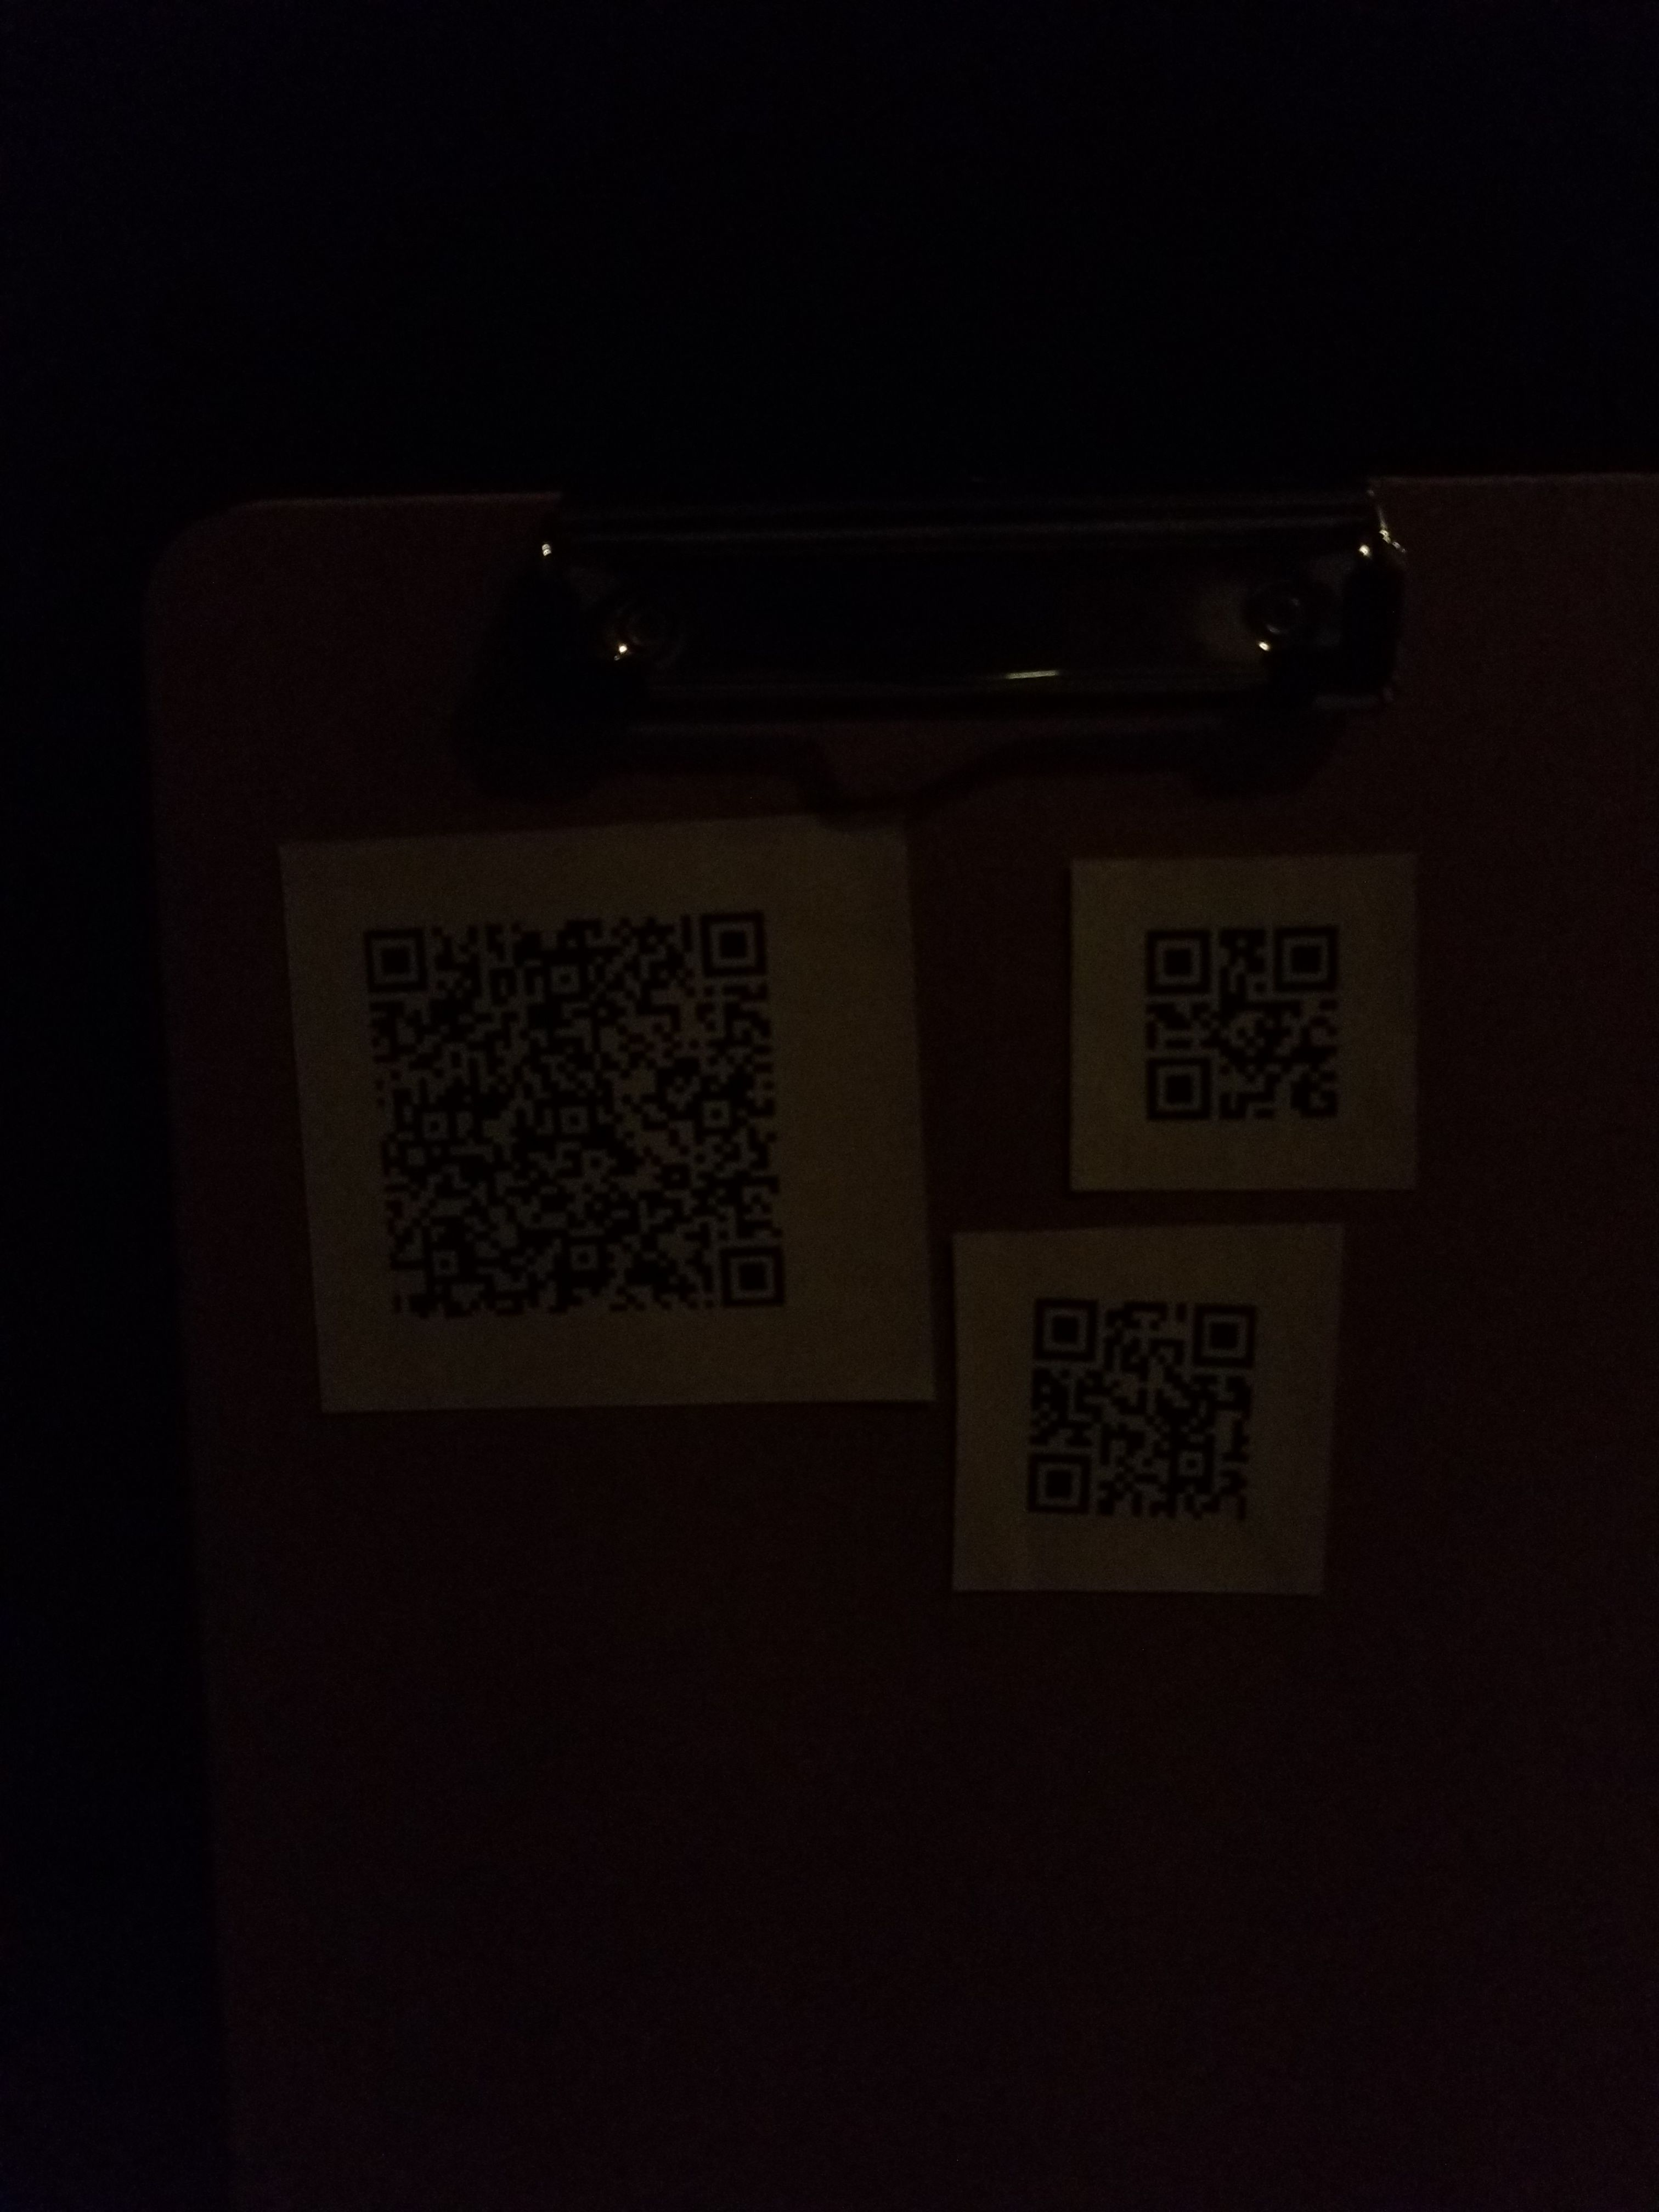QR_CODE: (328, 864, 824, 1355), (979, 1263, 1305, 1568), (1089, 883, 1382, 1167)
